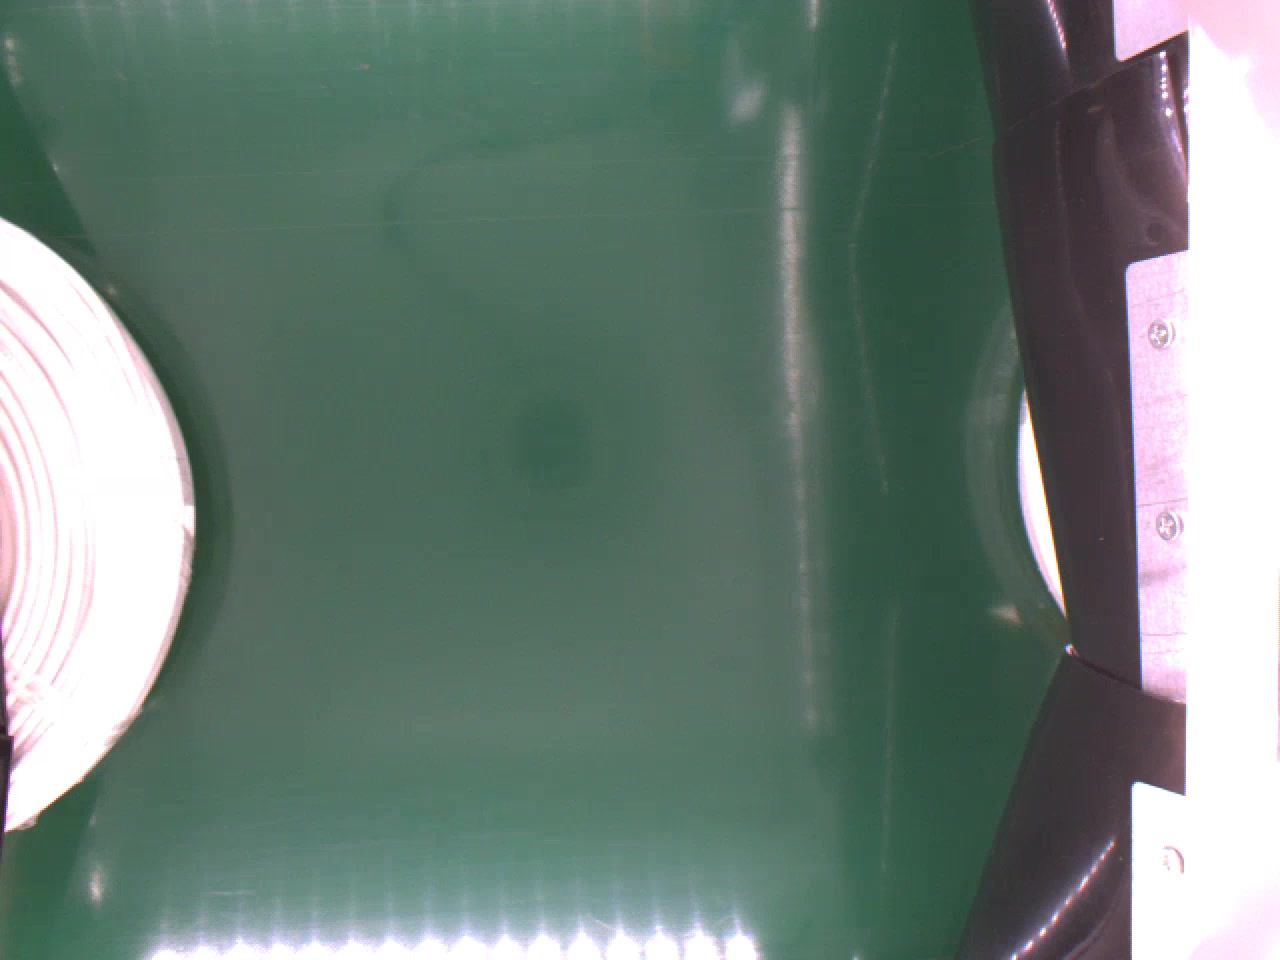white: (0, 216, 201, 830)
